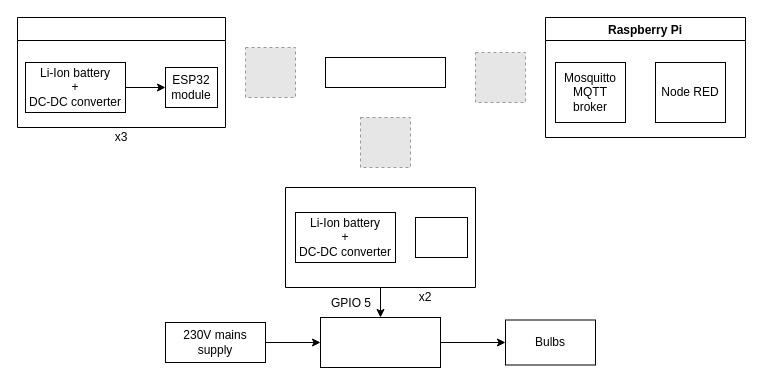
This 763x385 diagram has some shape labels left out. Grey dashed boxes stand in for pictures. The centre of each missing label's shape, as x and y in pixels:
Node MCU: (x=441, y=237)
Relay Module: (x=380, y=342)
Scanner: (x=121, y=72)
WiFi Access point: (x=385, y=72)
